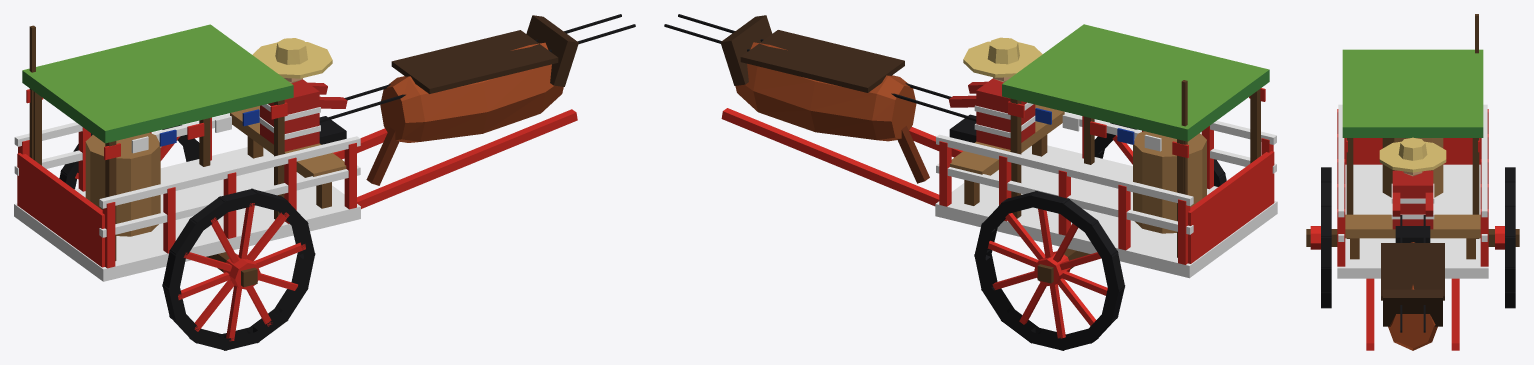
File: carreta_fonda_body.obj
The picture shows the model from 3 angles, left to right: view 1: azimuth 30°, elevation 25°; view 2: azimuth 150°, elevation 25°; view 3: azimuth 270°, elevation 25°; orthographic projection. The views are drawn at different scales.
Visible parts, largest first — view 1: carreta_fonda_body; view 2: carreta_fonda_body; view 3: carreta_fonda_body.
Part boxes in pixels (left/top/right/bottom): carreta_fonda_body: left=14, top=14, right=635, bottom=350; carreta_fonda_body: left=664, top=14, right=1277, bottom=350; carreta_fonda_body: left=1306, top=14, right=1519, bottom=350.
Size of the model in its own units: 5.75 by 2.71 by 2.2.
